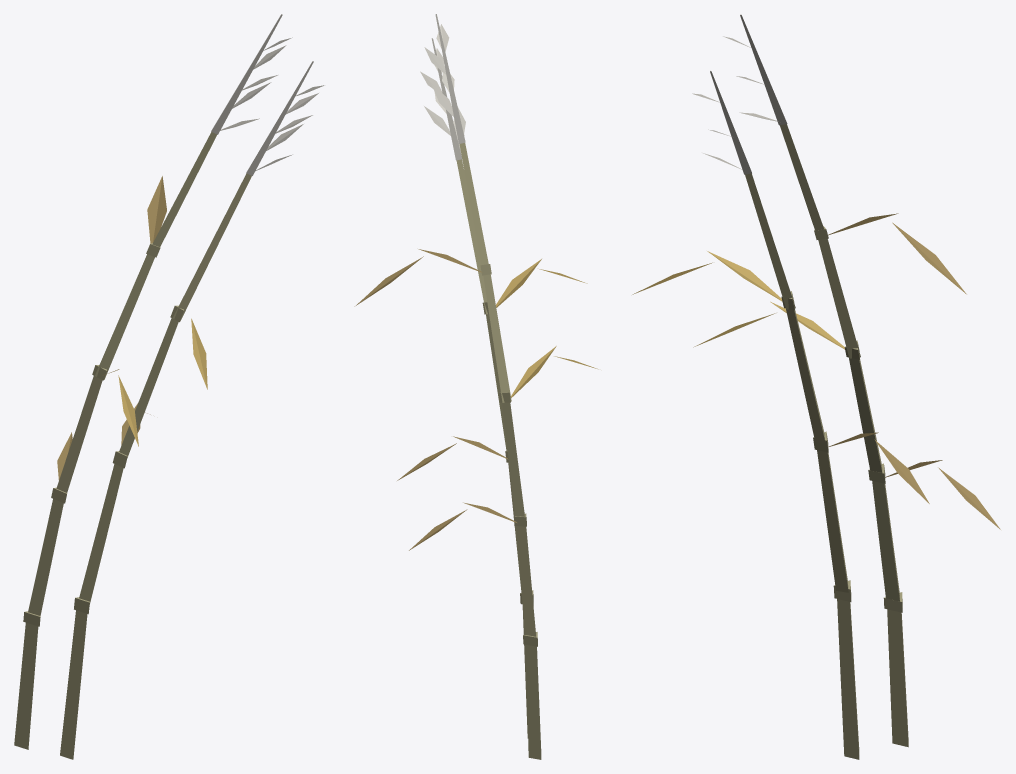
Rendered from shui.luwei@fruiting__autumn.glb.
The picture shows the model from 3 angles, left to right: view 1: azimuth 30°, elevation 25°; view 2: azimuth 150°, elevation 25°; view 3: azimuth 270°, elevation 25°; orthographic projection. The views are drawn at different scales.
Visible parts, largest first — view 1: shui.luwei@fruiting__autumn; view 2: shui.luwei@fruiting__autumn; view 3: shui.luwei@fruiting__autumn.
Boxes of the visible parts, x1,y1,x2,y2 form: shui.luwei@fruiting__autumn: [14, 14, 324, 759]; shui.luwei@fruiting__autumn: [354, 14, 598, 759]; shui.luwei@fruiting__autumn: [632, 14, 1000, 759].
Bounding box in the file's own units: 1 × 3.2 × 1.3.
